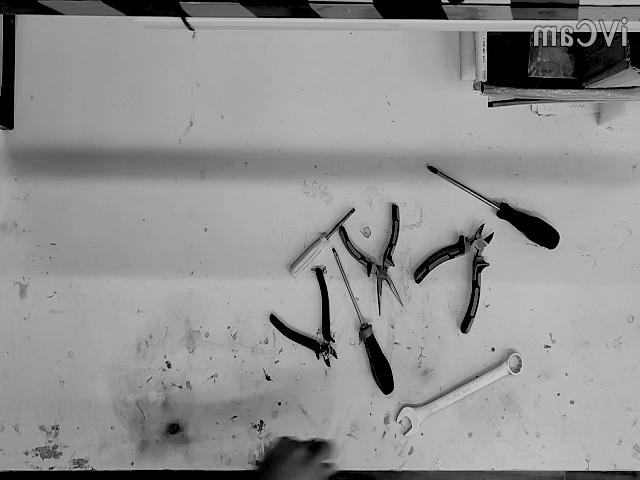Cutting pliers: (414, 223, 494, 335), (269, 268, 338, 367)
Hand: (255, 437, 335, 480)
Needle-nose pliers: (339, 205, 404, 317)
Screwdriver: (428, 166, 561, 248), (332, 247, 396, 393), (290, 207, 355, 278)
Wrench: (397, 352, 524, 437)
